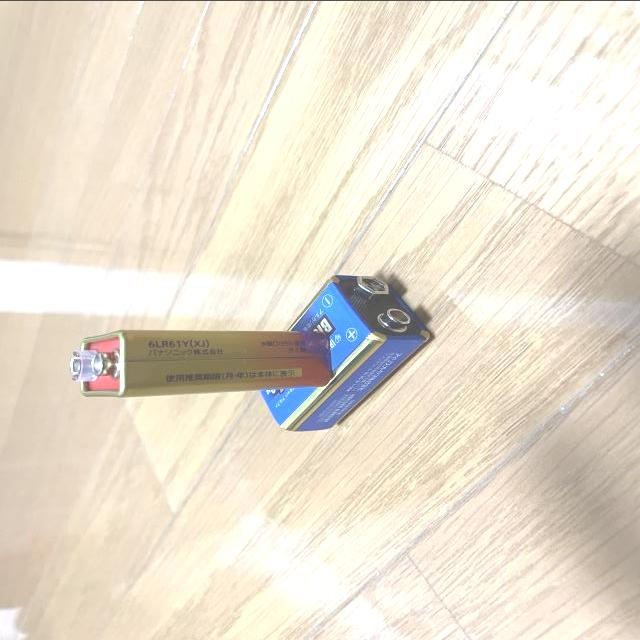9V: (256, 274, 431, 430), (70, 329, 332, 398)
